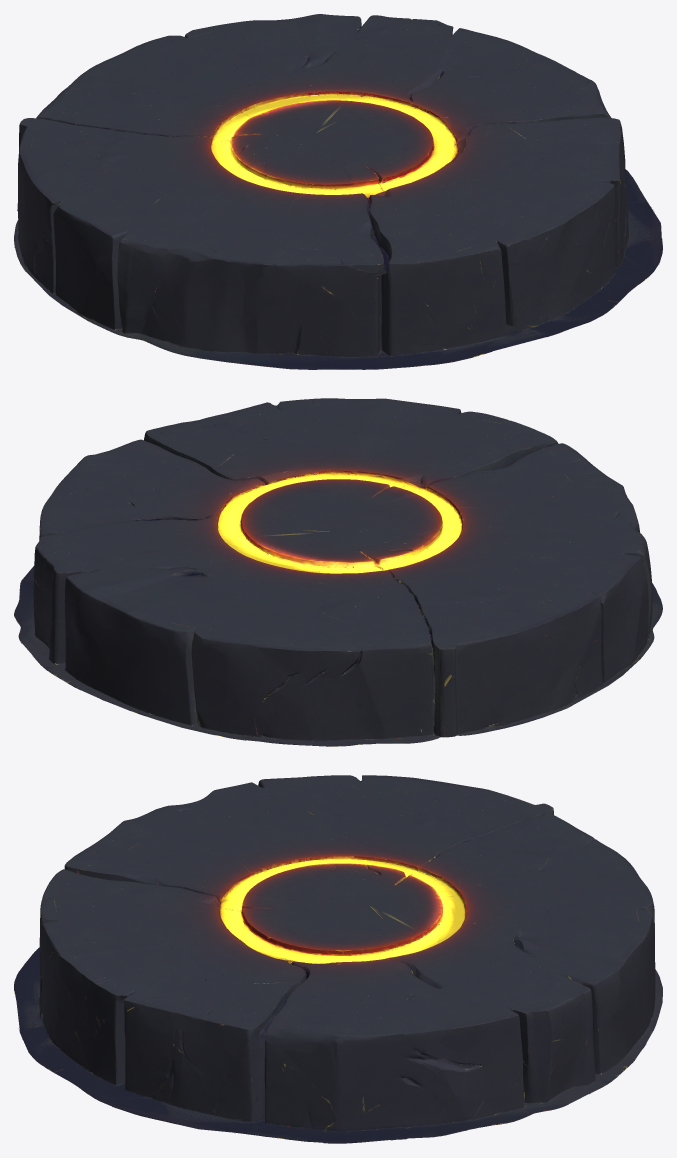
Rendered from volcano-ritual-circle-mesh.glb.
The picture shows the model from 3 angles, top to bottom: view 1: azimuth 30°, elevation 25°; view 2: azimuth 150°, elevation 25°; view 3: azimuth 270°, elevation 25°; orthographic projection.
Parts seen in each view (by area): view 1: Mesh_0; view 2: Mesh_0; view 3: Mesh_0.
Boxes of the visible parts, x1=… form: Mesh_0: x1=14, y1=14, x2=662, y2=369; Mesh_0: x1=14, y1=398, x2=662, y2=746; Mesh_0: x1=14, y1=775, x2=662, y2=1143.
Size of the model in its own units: 1.9 by 0.3092 by 1.86.
Materials: 1 (1 with a texture image).
